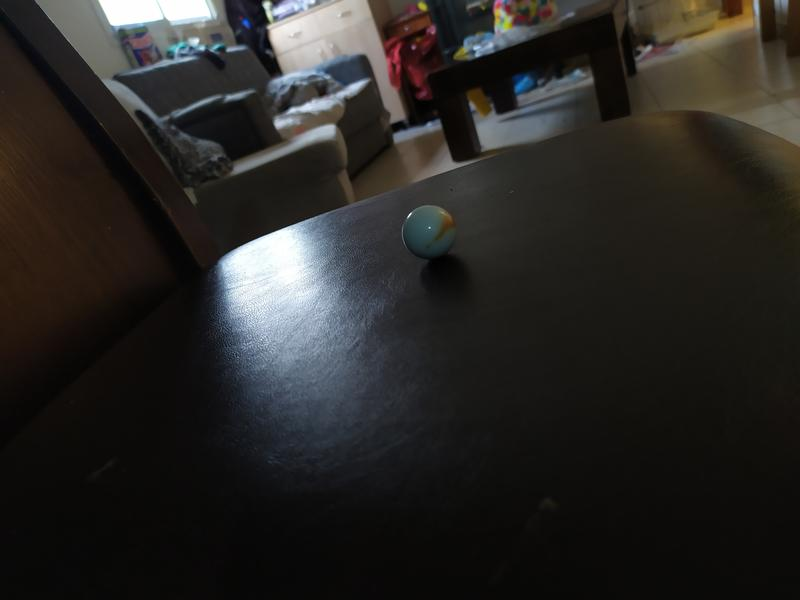Warning: (399, 203, 459, 262)
